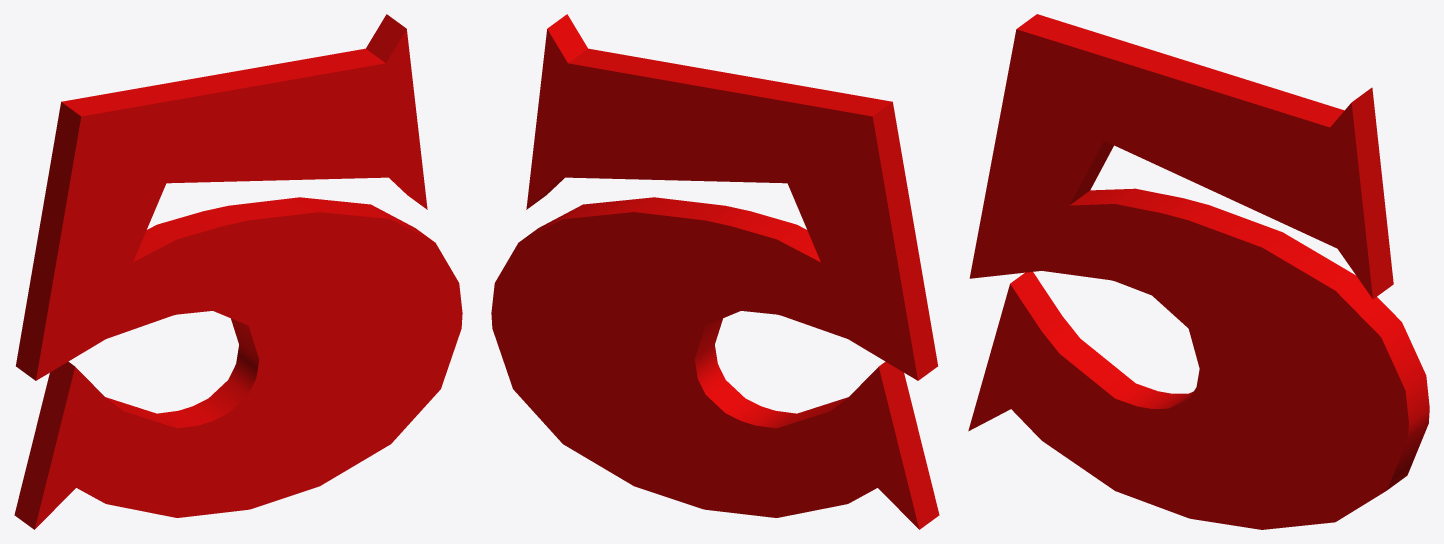
The picture shows the model from 3 angles, left to right: view 1: azimuth 30°, elevation 25°; view 2: azimuth 150°, elevation 25°; view 3: azimuth 330°, elevation 25°; orthographic projection. The views are drawn at different scales.
Visible parts, largest first — view 1: Trim_Char_x_1_1; view 2: Trim_Char_x_1_1; view 3: Trim_Char_x_1_1.
Part boxes in pixels (bbox=[...]): Trim_Char_x_1_1: bbox=[14, 14, 462, 529]; Trim_Char_x_1_1: bbox=[491, 14, 939, 529]; Trim_Char_x_1_1: bbox=[968, 14, 1429, 529].
Bounding box in the file's own units: 0.7608 × 0.7515 × 0.062.
